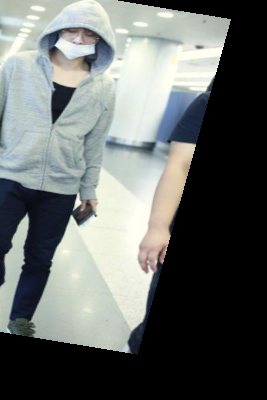mask_weared_incorrect: (36, 2, 125, 72)
